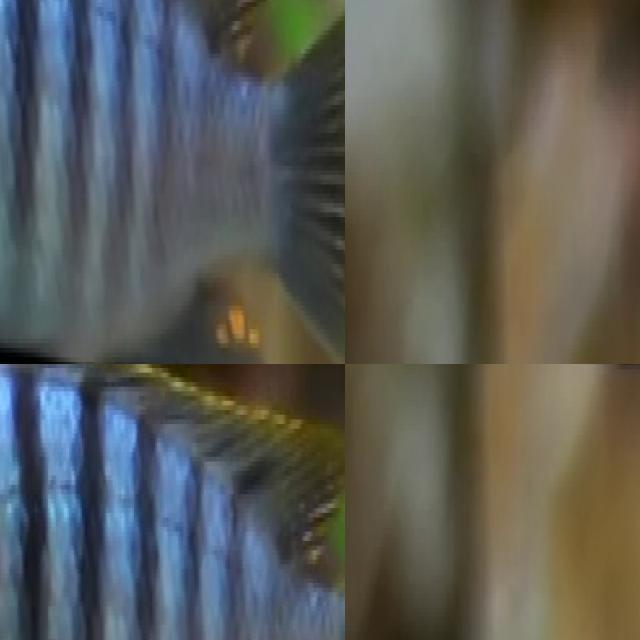fish: (0, 0, 345, 364), (0, 364, 345, 640), (406, 364, 640, 481), (481, 0, 640, 125)
